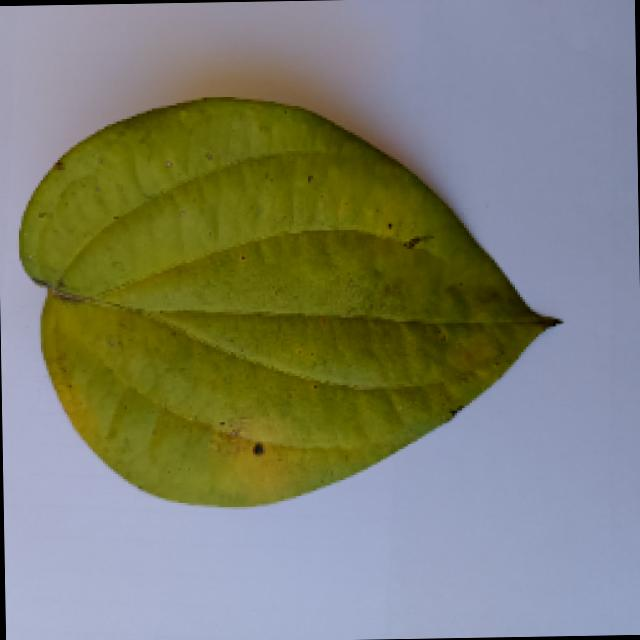slow-decline: (6, 76, 601, 514)
